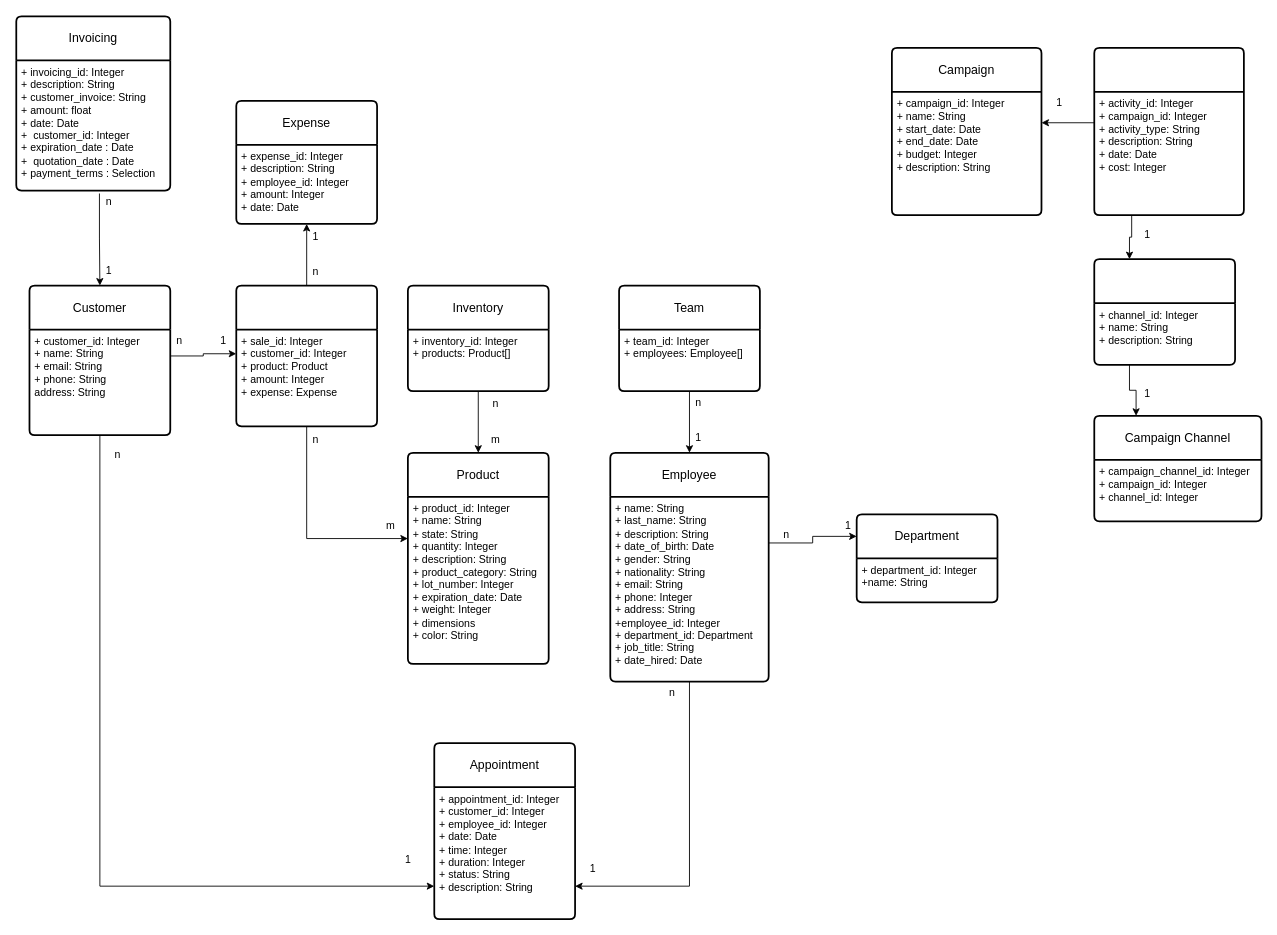
Some shapes in this 1277 by 935 pixel diagram are drawn without their labels. Here are the shapes that lost their labels. From the top down, the box of each, then its label:
(1093, 47, 1244, 216): Campaign Activity
(1093, 258, 1236, 365): Marketing Channel
(235, 284, 378, 427): Sales
